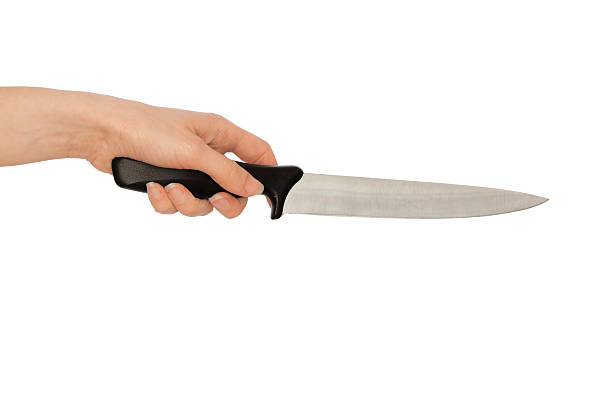knife: (110, 152, 549, 222)
